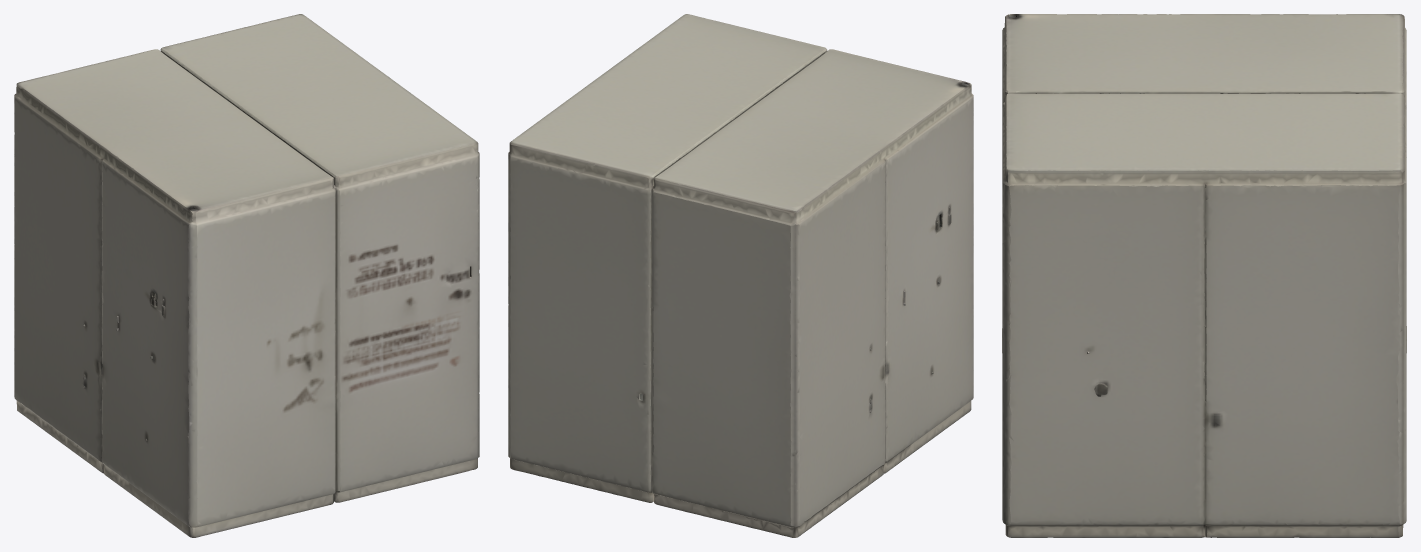
Rendered from item_e81cc9ff.glb.
The picture shows the model from 3 angles, left to right: view 1: azimuth 30°, elevation 25°; view 2: azimuth 150°, elevation 25°; view 3: azimuth 270°, elevation 25°; orthographic projection. The views are drawn at different scales.
Visible parts, largest first — view 1: world; view 2: world; view 3: world.
Part boxes in pixels (x1=…): world: x1=14, y1=14, x2=479, y2=537; world: x1=508, y1=14, x2=973, y2=537; world: x1=1002, y1=14, x2=1406, y2=537.
Bounding box in the file's own units: 0.8 × 0.8458 × 0.8455.
1 material, 1 textured.
